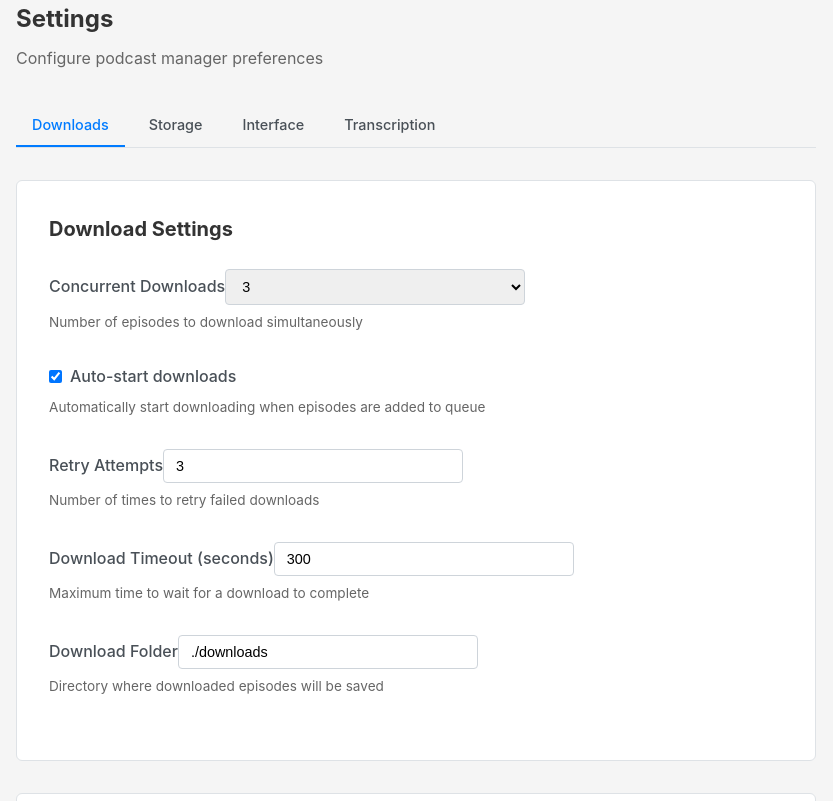
SettingsPanel › switches between tabs
// Click Storage tab
Click the button "Storage": (176, 126) x1=133 y1=104 x2=218 y2=147
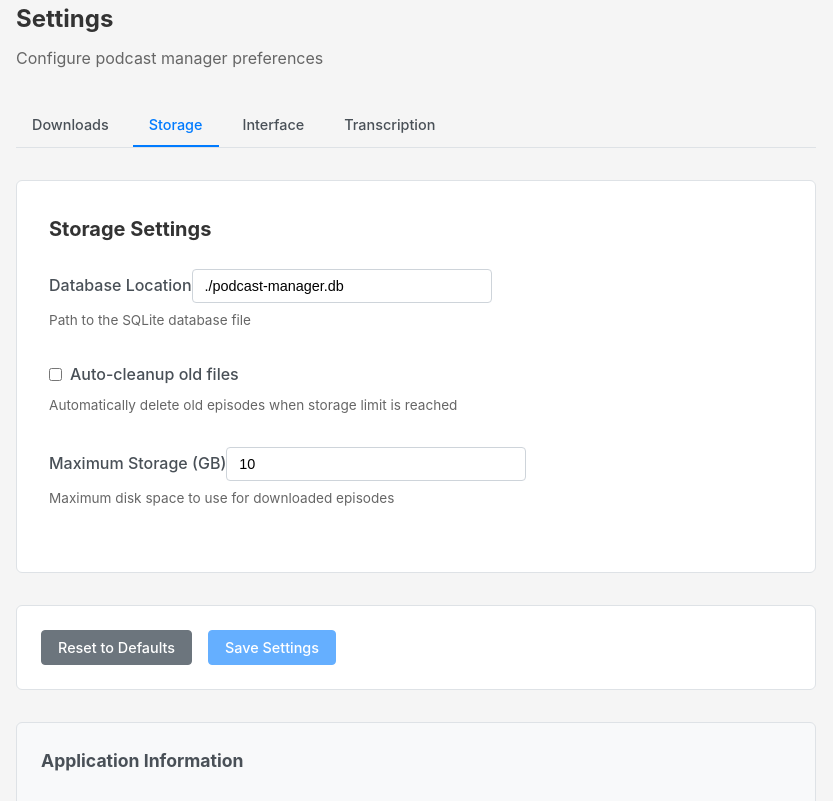
Expected: the heading "Storage Settings" is shown, x1=49 y1=217 x2=211 y2=241
Expected: the text "Database Location" is shown, x1=49 y1=269 x2=492 y2=303
// Click Interface tab
Click the button "Interface": (273, 126) x1=226 y1=104 x2=320 y2=147
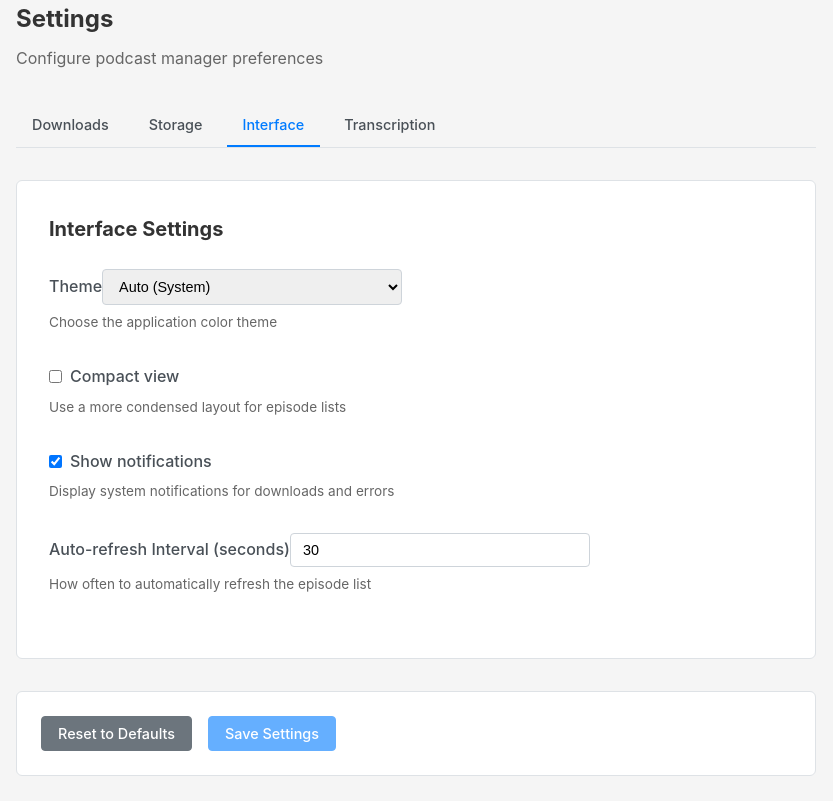
Expected: the heading "Interface Settings" is shown, x1=49 y1=217 x2=223 y2=241
Expected: the text "Theme" is shown, x1=49 y1=269 x2=402 y2=305
// Click Transcription tab
Click the button "Transcription": (390, 126) x1=328 y1=104 x2=451 y2=147
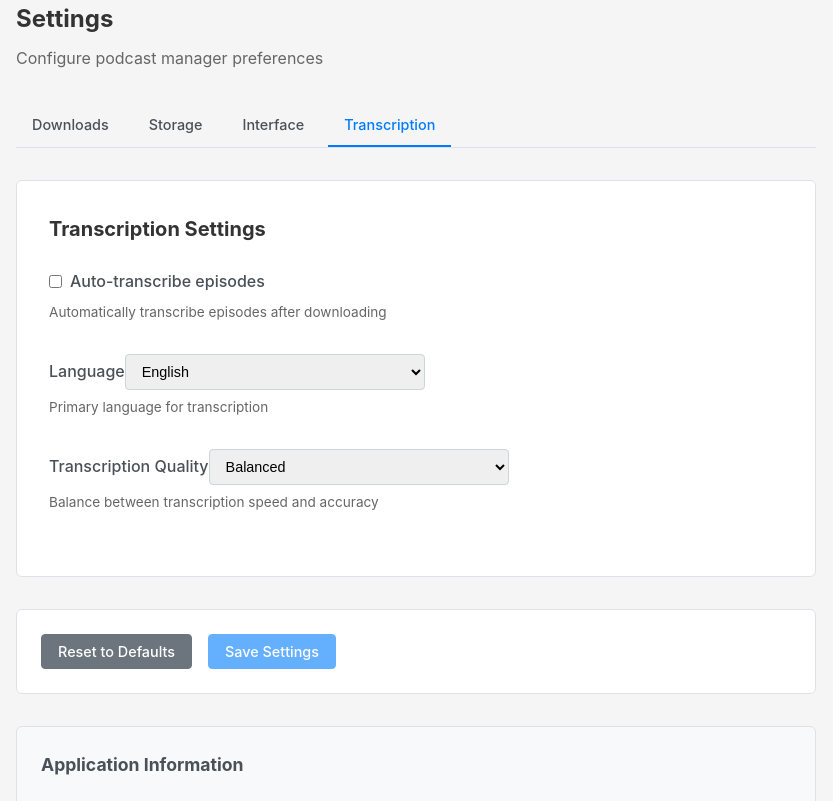
Expected: the heading "Transcription Settings" is shown, x1=49 y1=217 x2=266 y2=241
Expected: the text "Auto-transcribe episodes" is shown, x1=49 y1=271 x2=265 y2=291
